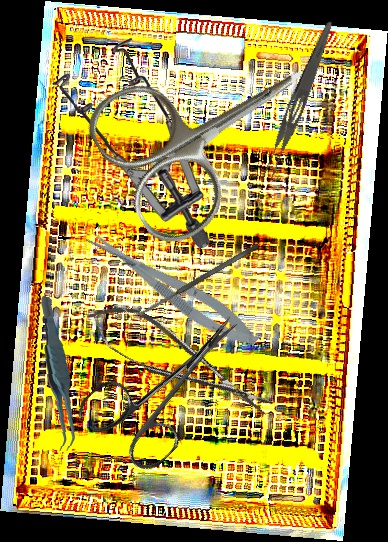Dressing Forceps: (258, 17, 337, 185)
Iris Scissors: (76, 3, 346, 256), (73, 283, 268, 481)
Micro Scissor: (80, 289, 279, 435), (81, 219, 265, 357)
Spatula Surgical: (139, 242, 260, 317)
Speculum: (47, 37, 215, 250)
Tissue Forceps: (30, 296, 85, 452)
